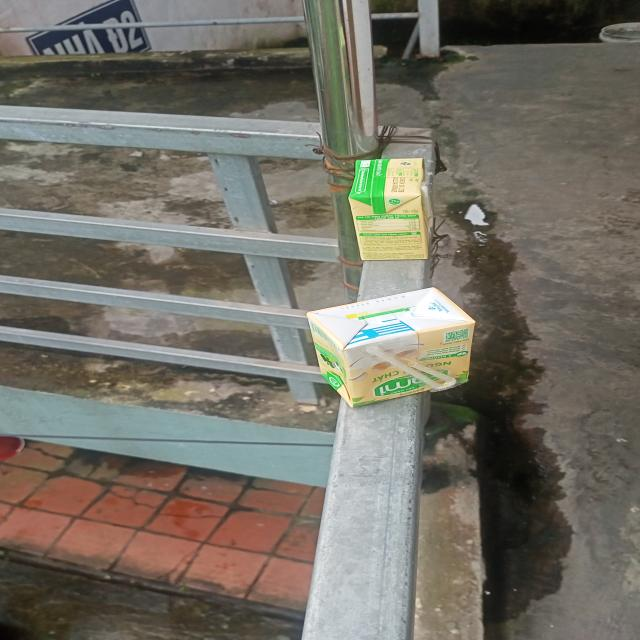Fami: (316, 289, 476, 407), (348, 158, 429, 260)
